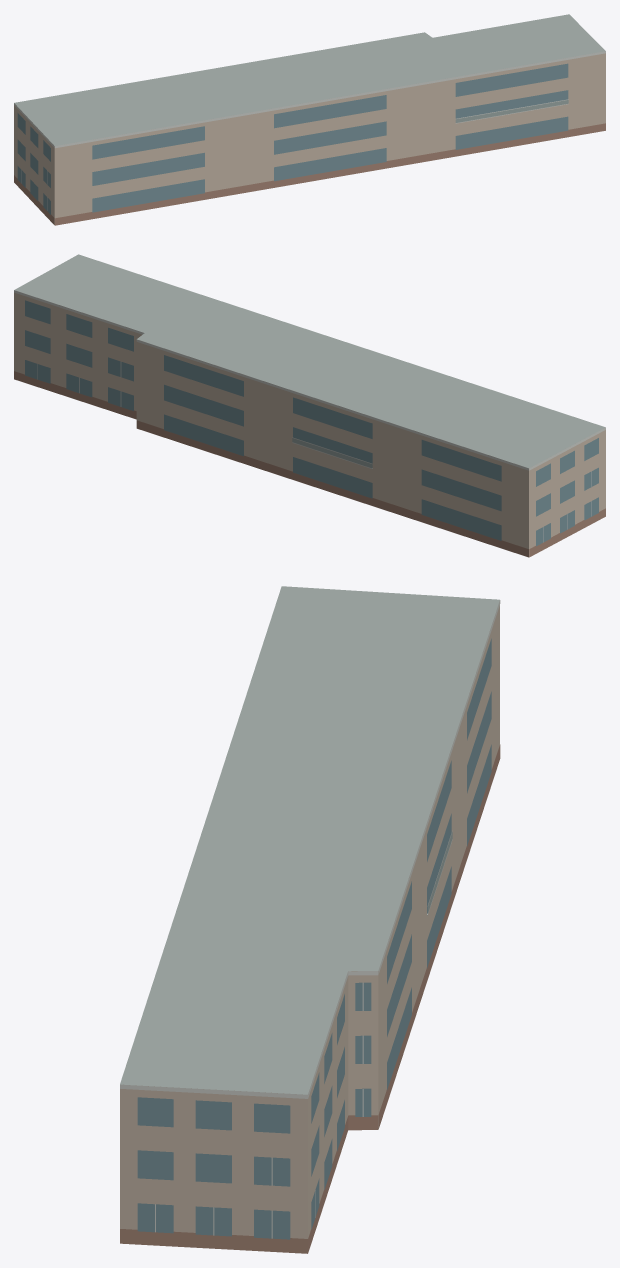
The model's file is survey-upis-32575688.glb.
3 renders of one model, top to bottom at view 1: azimuth 30°, elevation 25°; view 2: azimuth 150°, elevation 25°; view 3: azimuth 270°, elevation 25°, orthographic. The views are drawn at different scales.
Visible parts, largest first — view 1: survey-upis-32575688.tmp; view 2: survey-upis-32575688.tmp; view 3: survey-upis-32575688.tmp.
Boxes of the visible parts, x1,y1,x2,y2 form: survey-upis-32575688.tmp: (14,14,605,225); survey-upis-32575688.tmp: (14,254,605,557); survey-upis-32575688.tmp: (120,586,500,1253).
Bounding box in the file's own units: 62.76 × 9.15 × 19.84.
